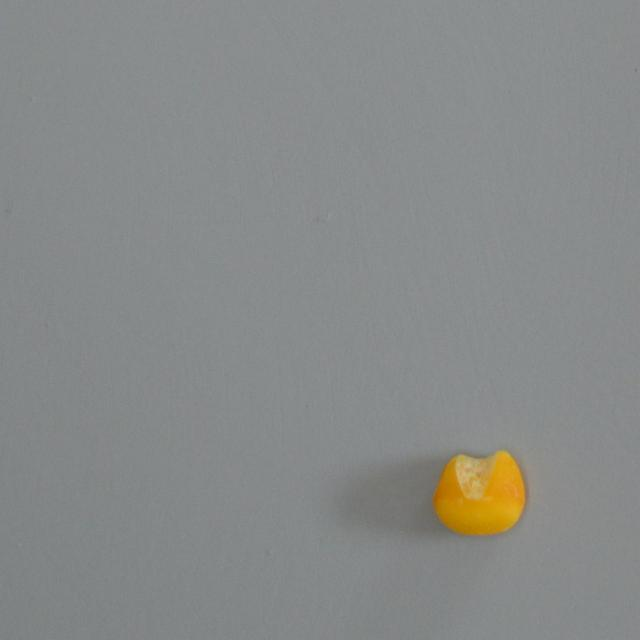no_canjicado: (428, 442, 532, 538)
